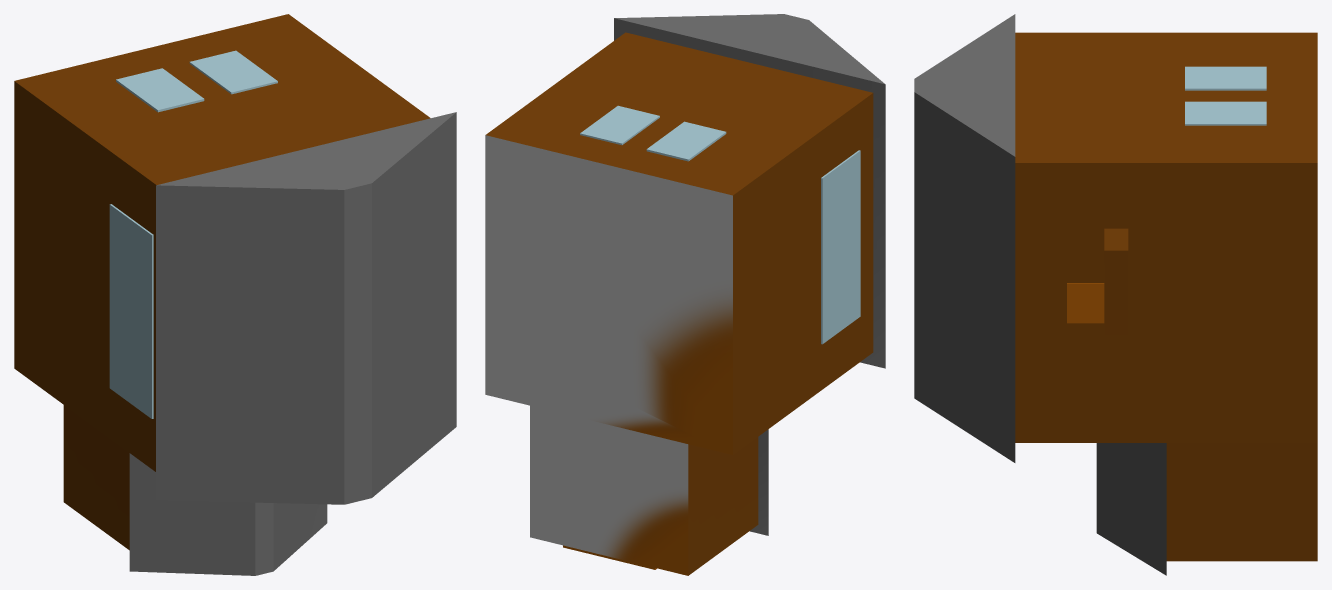
The model's file is ТХ_2Origin.fbx.
3 views of the same model, side by side, from view 1: azimuth 30°, elevation 25°; view 2: azimuth 150°, elevation 25°; view 3: azimuth 270°, elevation 25° (orthographic). The views are drawn at different scales.
Visible parts, largest first — view 1: ТХ_2; view 2: ТХ_2; view 3: ТХ_2.
Part boxes in pixels (x1,y1,x2,y2): ТХ_2: [14, 14, 456, 575]; ТХ_2: [485, 14, 885, 575]; ТХ_2: [914, 14, 1317, 575].
Size of the model in its own units: 2.23 by 2.9 by 2.39.
